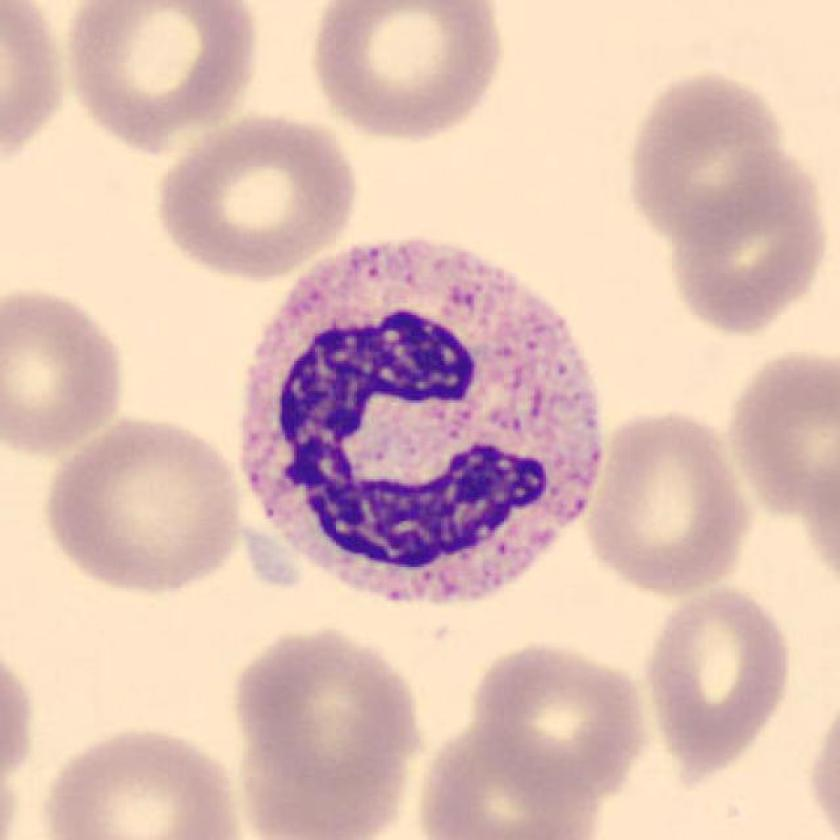neutrophil: (240, 233, 599, 606)
